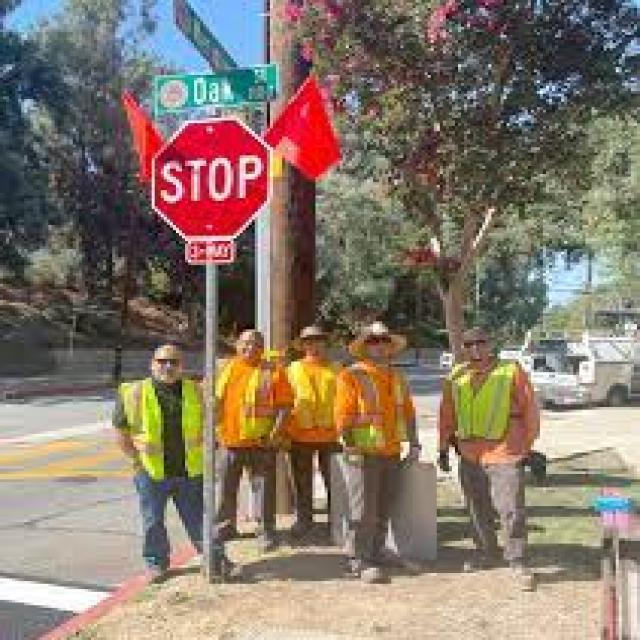stop-sign: (133, 124, 324, 224)
